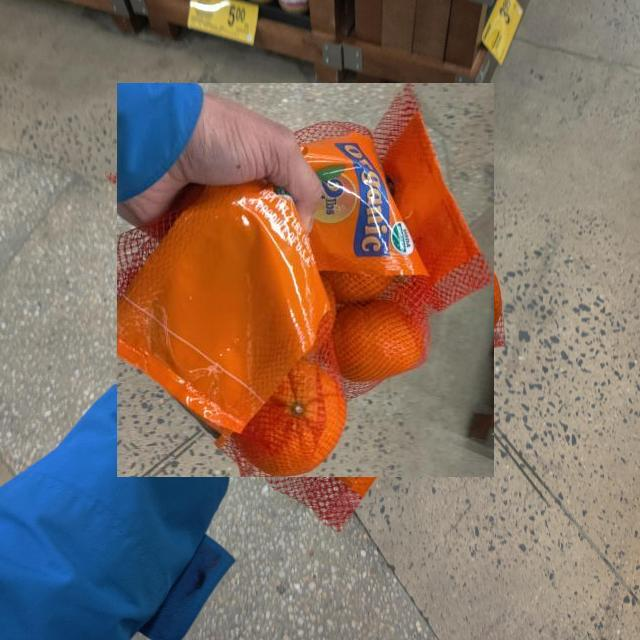Clementine: (117, 84, 494, 477)
